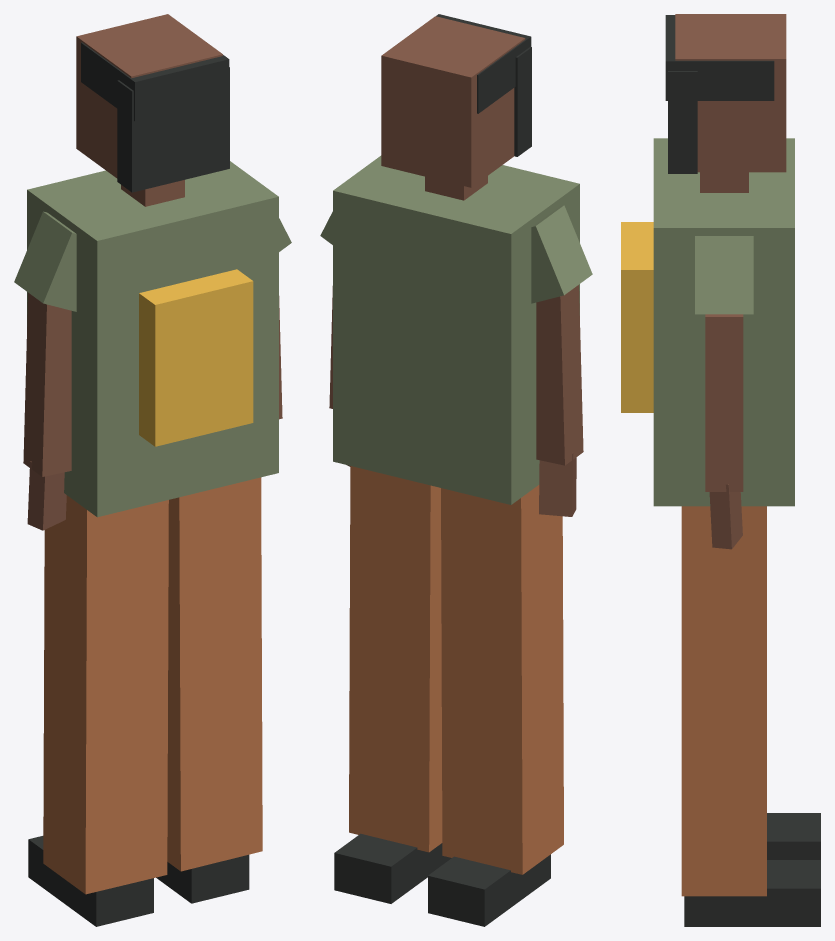
File: pedestrian_14_far.glb
3 views of the same model, side by side, from view 1: azimuth 30°, elevation 25°; view 2: azimuth 150°, elevation 25°; view 3: azimuth 270°, elevation 25° (orthographic). The views are drawn at different scales.
Parts seen in each view (by area): view 1: pedestrian_14 crowd_trousers.001, pedestrian_14 crowd_shirt.001, pedestrian_14 crowd_rubber.001, pedestrian_14 crowd_skin.001, Backpack; view 2: pedestrian_14 crowd_trousers.001, pedestrian_14 crowd_shirt.001, pedestrian_14 crowd_skin.001, pedestrian_14 crowd_rubber.001; view 3: pedestrian_14 crowd_shirt.001, pedestrian_14 crowd_trousers.001, pedestrian_14 crowd_skin.001, pedestrian_14 crowd_rubber.001, Backpack.
Boxes of the visible parts, x1,y1,x2,y2 form: pedestrian_14 crowd_trousers.001: (43, 477, 262, 894); pedestrian_14 crowd_shirt.001: (14, 161, 291, 517); pedestrian_14 crowd_rubber.001: (28, 42, 249, 926); pedestrian_14 crowd_skin.001: (23, 14, 282, 530); Backpack: (139, 269, 253, 446); pedestrian_14 crowd_trousers.001: (349, 466, 563, 874); pedestrian_14 crowd_shirt.001: (320, 155, 592, 504); pedestrian_14 crowd_skin.001: (329, 16, 583, 516); pedestrian_14 crowd_rubber.001: (334, 14, 550, 926); pedestrian_14 crowd_shirt.001: (653, 138, 794, 506); pedestrian_14 crowd_trousers.001: (681, 506, 766, 896); pedestrian_14 crowd_skin.001: (675, 14, 786, 549); pedestrian_14 crowd_rubber.001: (665, 15, 820, 926); Backpack: (621, 222, 653, 412).
Size of the model in its own units: 0.527 by 1.71 by 0.3638.
